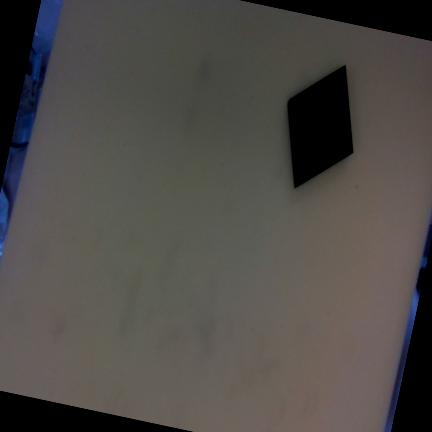tile: (287, 65, 356, 187)
